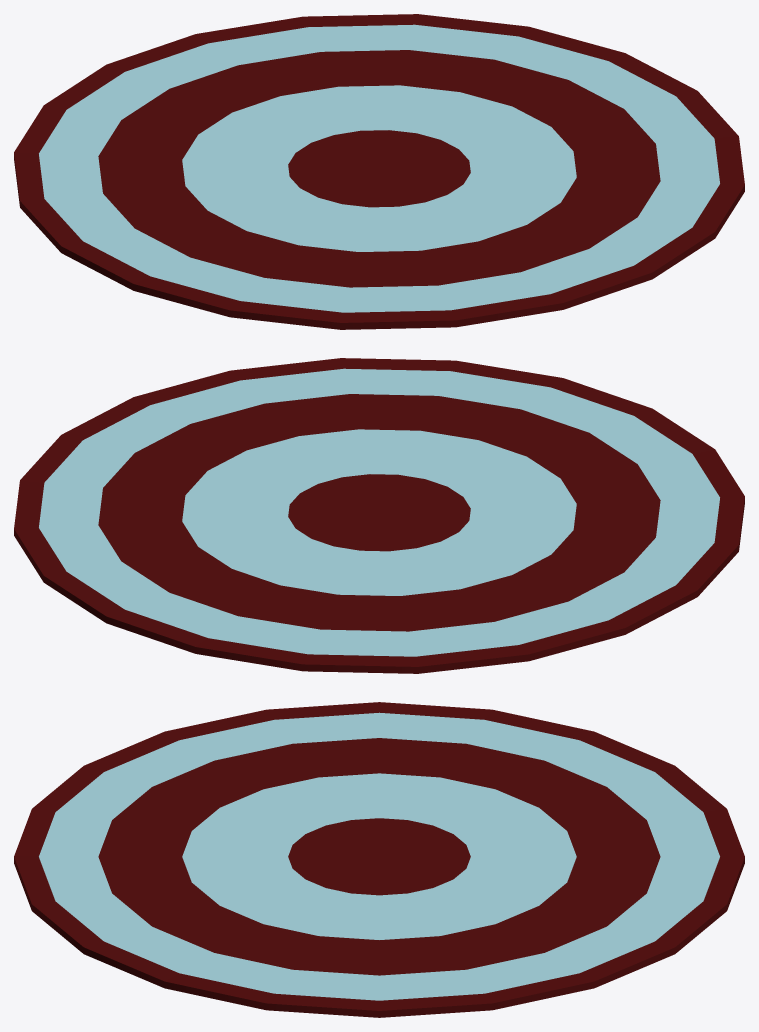
The model's file is cible.obj.
3 renders of one model, top to bottom at view 1: azimuth 30°, elevation 25°; view 2: azimuth 150°, elevation 25°; view 3: azimuth 270°, elevation 25°, orthographic.
Parts seen in each view (by area): view 1: pCylinder1; view 2: pCylinder1; view 3: pCylinder1.
Boxes of the visible parts, <box> form: pCylinder1: <box>14,14,744,329</box>; pCylinder1: <box>14,358,744,673</box>; pCylinder1: <box>14,702,744,1017</box>.
Bounding box in the file's own units: 14.45 × 0.1506 × 14.45.
